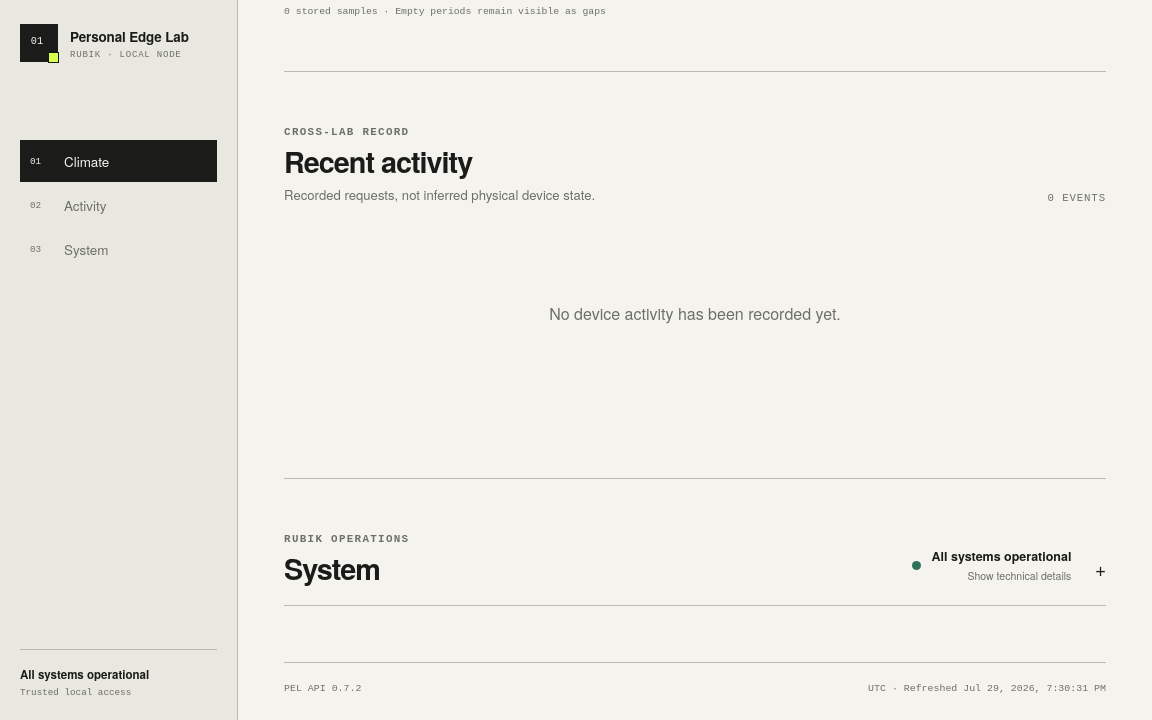
Test: lab dashboard › makes an overdue evaluator visible as unknown
This screenshot has width=1152, height=720.
(page scrolled)
Click the heading "System" at (332, 568), box [284,548,380,588]
(page scrolled)
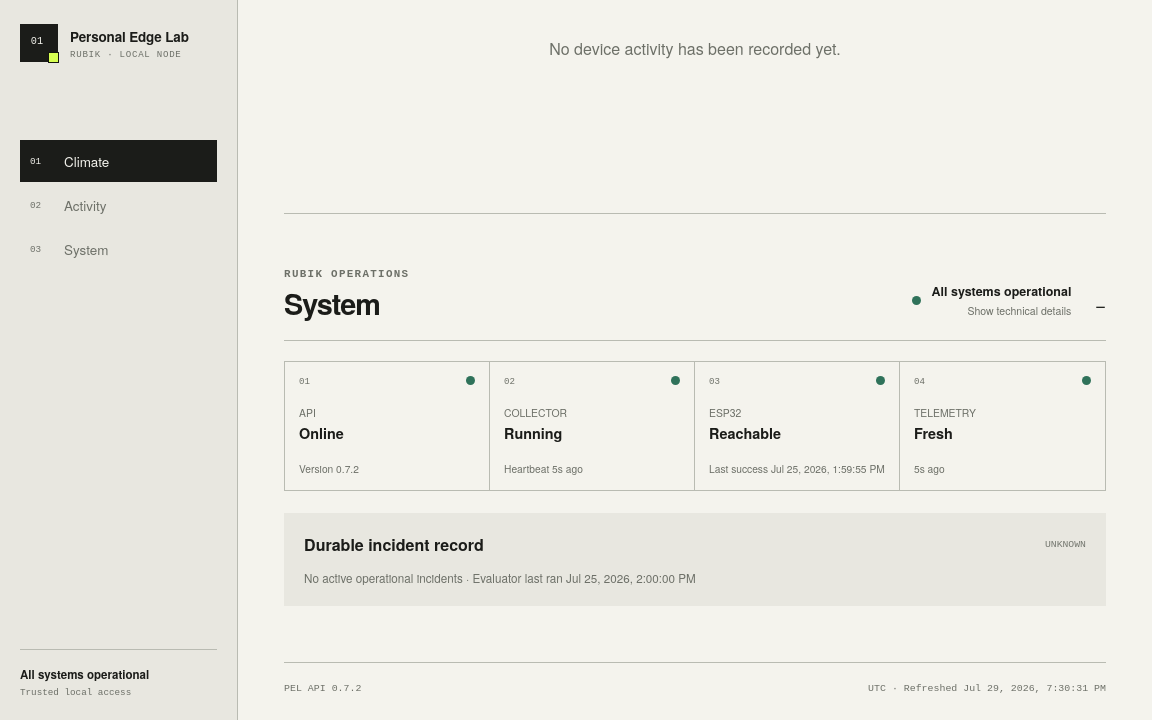
Result: the text "unknown" is shown at [1045,539,1086,550]
